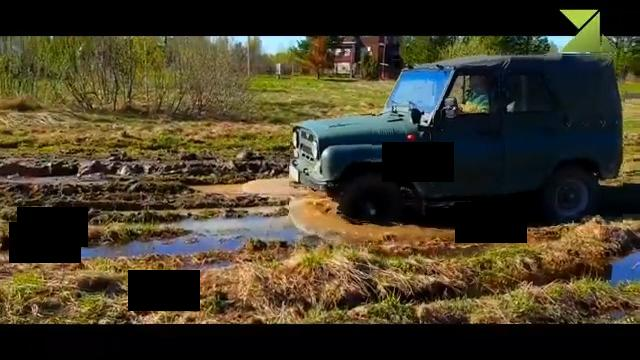MIL_HMMWV: (290, 51, 625, 225)
